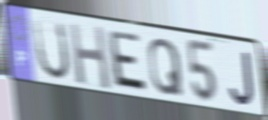5: (185, 36, 219, 107)
E: (108, 28, 150, 96)
H: (67, 21, 113, 93)
J: (228, 50, 256, 108)
Q: (147, 37, 186, 99)
U: (32, 17, 72, 83)
